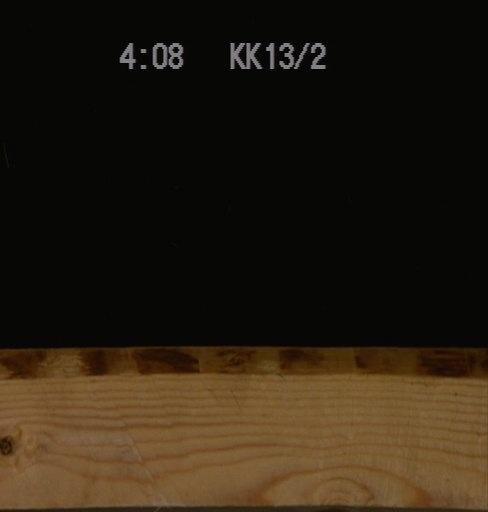dry_knot: (0, 433, 12, 456)
wave: (0, 346, 487, 390)
